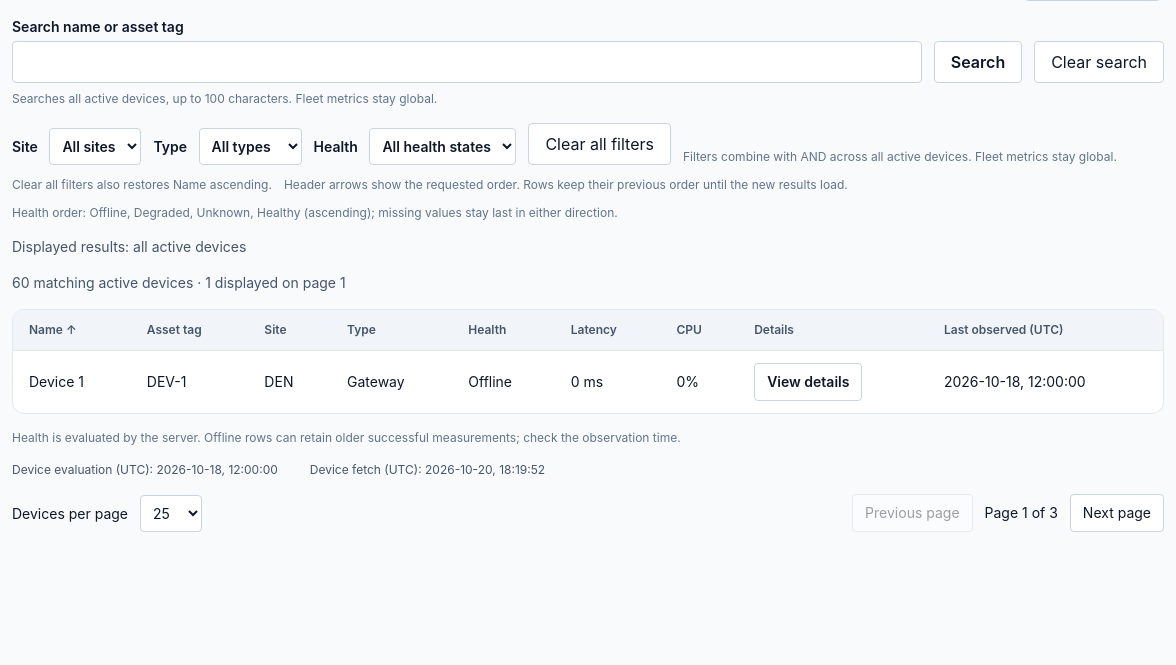
Scenario: can recover to the previous cached page after a page-change failure
Expected: the text "Device 1" is shown, [13,351,131,413]
Click the button "Next page". click: (1117, 513)
box: [1070,494,1164,532]
(page scrolled)
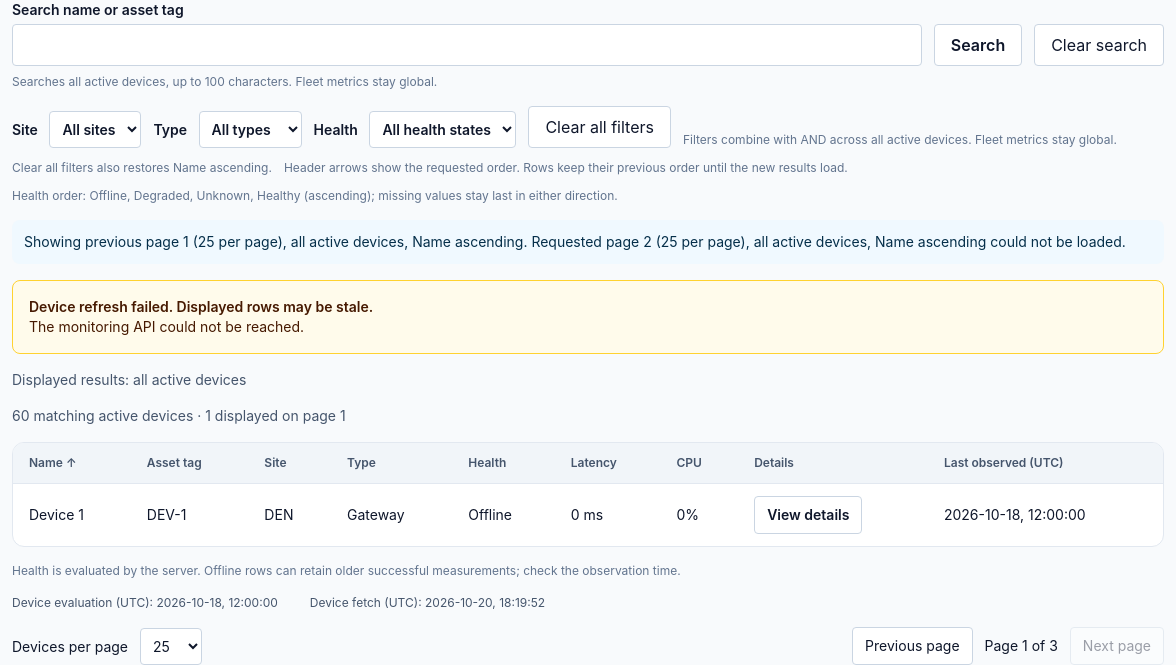
Expected: the 2nd message is shown, [12,280,1164,354]
Click the button "Previous page". click: (912, 646)
box: [852,627,973,664]
(page scrolled)
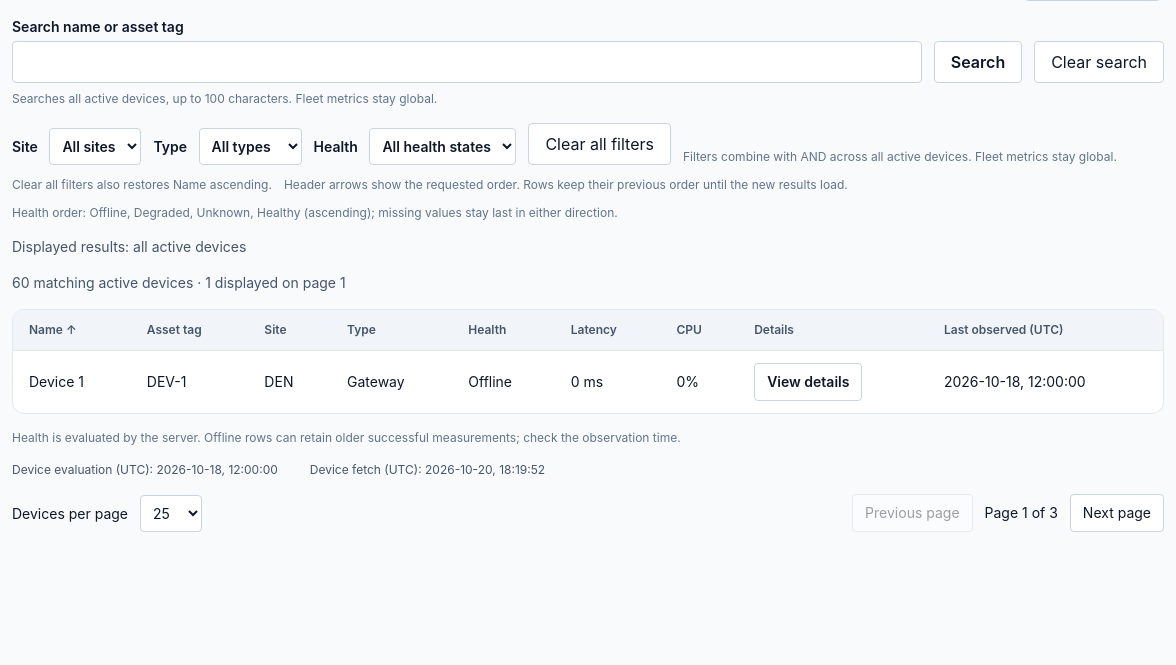
Expected: the text "Device 1" is shown, [13,351,131,413]
Expected: the message is gone
